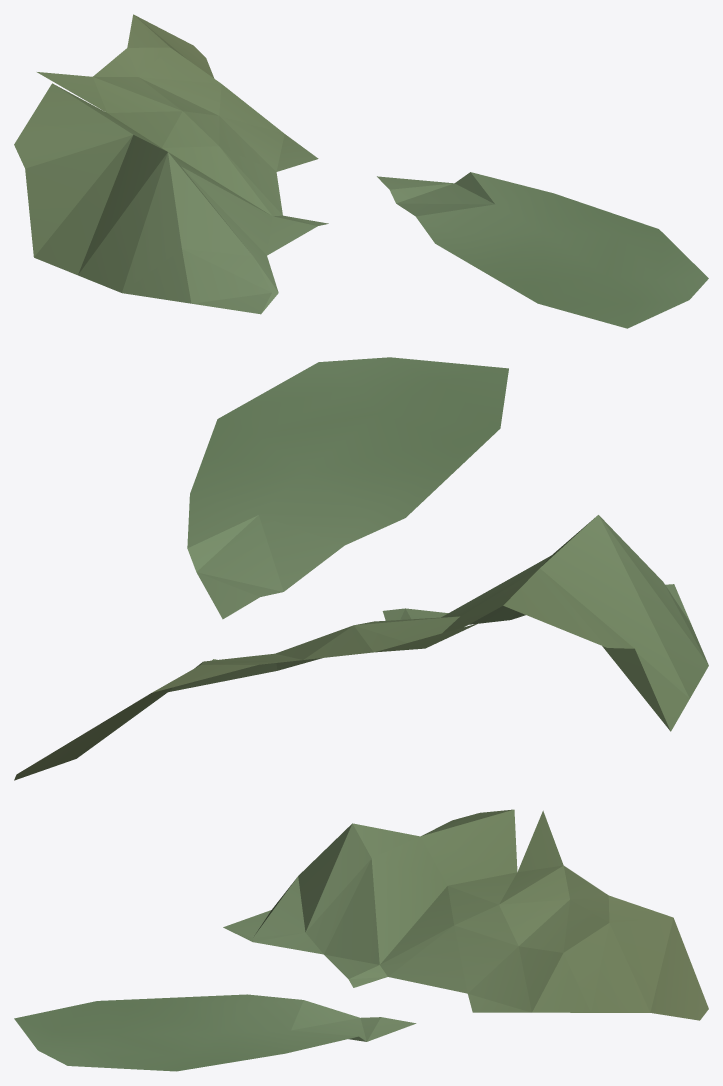
3 renders of one model, top to bottom at view 1: azimuth 30°, elevation 25°; view 2: azimuth 150°, elevation 25°; view 3: azimuth 270°, elevation 25°, orthographic. The views are drawn at different scales.
Visible parts, largest first — view 1: 锡兰椰林; view 2: 锡兰椰林; view 3: 锡兰椰林.
Part boxes in pixels (<box>): 锡兰椰林: <box>14,14,708,328</box>; 锡兰椰林: <box>14,357,708,780</box>; 锡兰椰林: <box>14,809,708,1071</box>.
Bounding box in the file's own units: 4.98 × 1.15 × 7.18.
